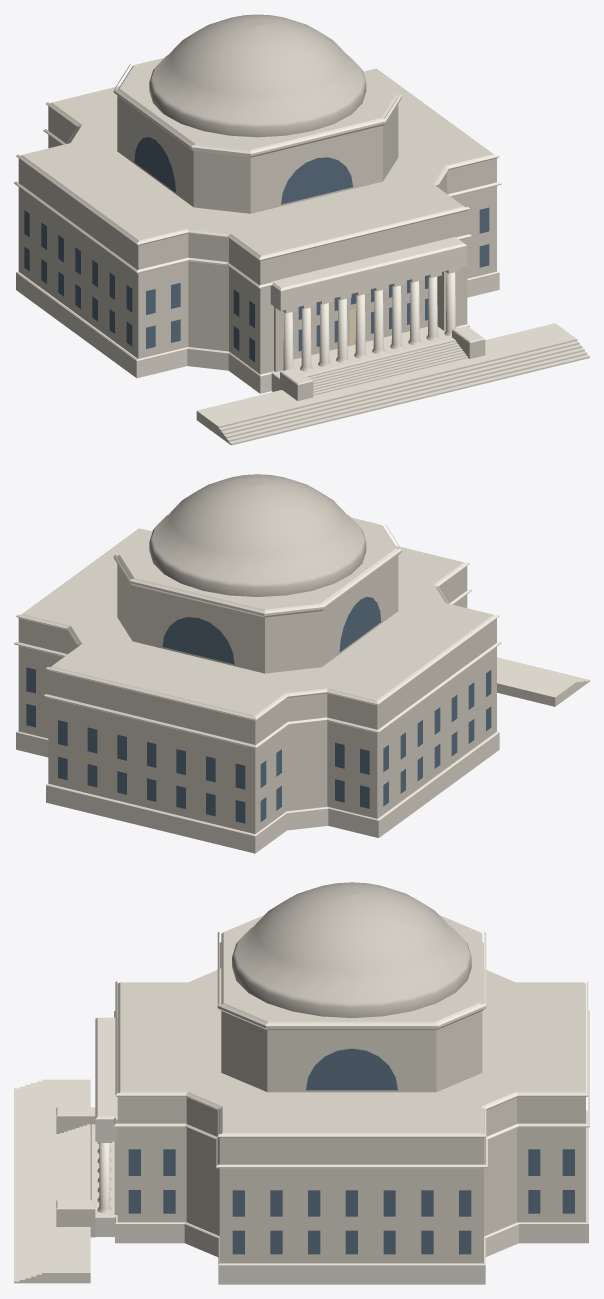
Rendered from nyc-columbia-low-library.glb.
The picture shows the model from 3 angles, top to bottom: view 1: azimuth 30°, elevation 25°; view 2: azimuth 150°, elevation 25°; view 3: azimuth 270°, elevation 25°; orthographic projection. The views are drawn at different scales.
Visible parts, largest first — view 1: Low Memorial Library; view 2: Low Memorial Library; view 3: Low Memorial Library.
Part boxes in pixels (x1=…): Low Memorial Library: x1=14, y1=14, x2=589, y2=445; Low Memorial Library: x1=14, y1=474, x2=589, y2=853; Low Memorial Library: x1=14, y1=882, x2=589, y2=1284.
Size of the model in its own units: 60.6 by 41.9 by 75.
